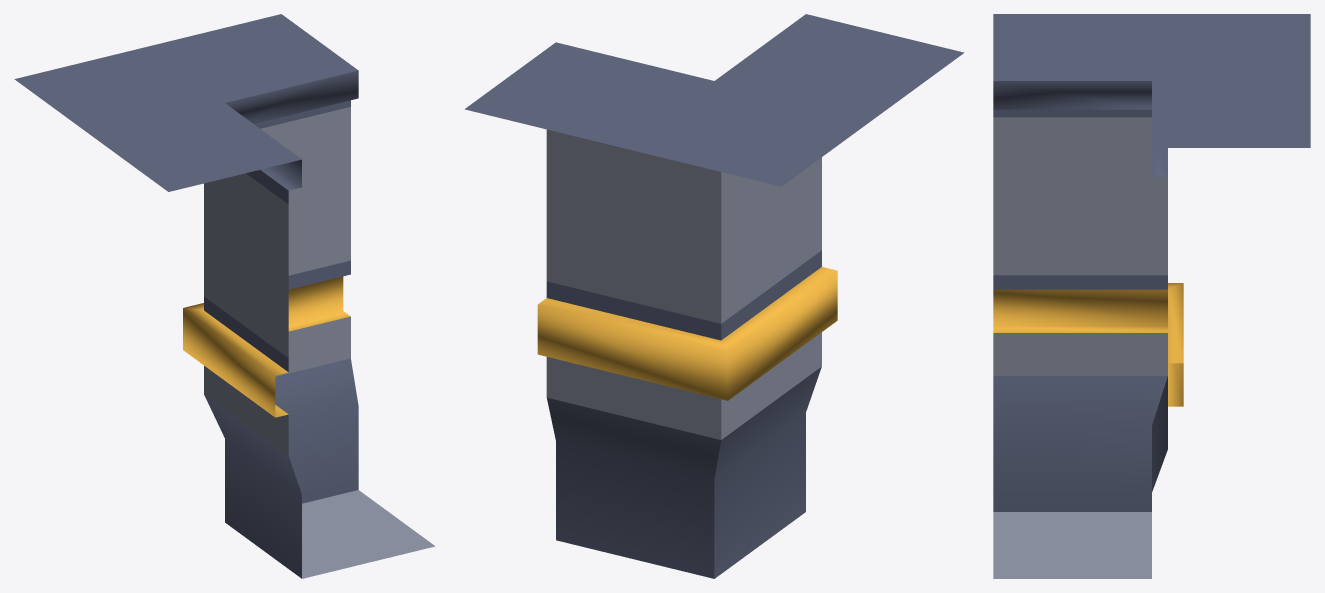
File: StructureCornerInner-transformed.glb
3 views of the same model, side by side, from view 1: azimuth 30°, elevation 25°; view 2: azimuth 150°, elevation 25°; view 3: azimuth 270°, elevation 25° (orthographic). The views are drawn at different scales.
Parts seen in each view (by area): view 1: structure-corner-inner; view 2: structure-corner-inner; view 3: structure-corner-inner.
Boxes of the visible parts, <box> form: structure-corner-inner: <box>14,14,435,578</box>; structure-corner-inner: <box>465,14,964,578</box>; structure-corner-inner: <box>993,14,1310,578</box>.
Bounding box in the file's own units: 2 × 3 × 2.
